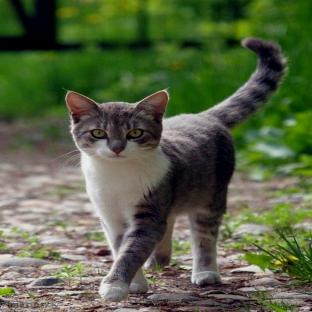Animal: (66, 38, 286, 302)
